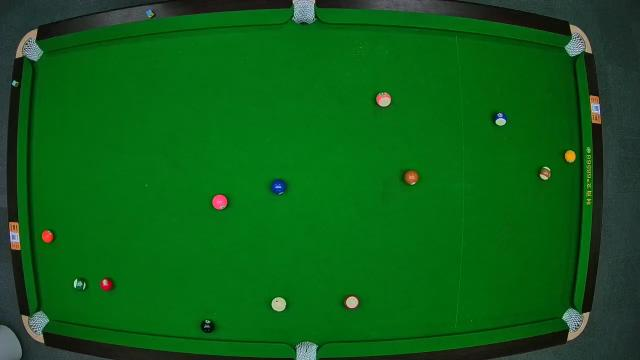bag1: (20, 37, 40, 59)
bag2: (294, 1, 316, 25)
bag3: (566, 35, 588, 57)
bag4: (28, 310, 48, 332)
bag5: (293, 340, 319, 360)
bag6: (562, 308, 586, 332)
ball0: (272, 296, 288, 312)
ball1: (564, 150, 576, 164)
ball10: (493, 112, 507, 126)
ball11: (345, 294, 359, 310)
ball12: (376, 91, 392, 107)
ball14: (74, 278, 86, 290)
ball15: (538, 166, 552, 180)
ball2: (271, 178, 287, 196)
ball3: (101, 278, 113, 290)
ball4: (212, 194, 228, 210)
ball5: (41, 229, 54, 243)
ball7: (404, 170, 418, 186)
ball8: (200, 318, 216, 334)
